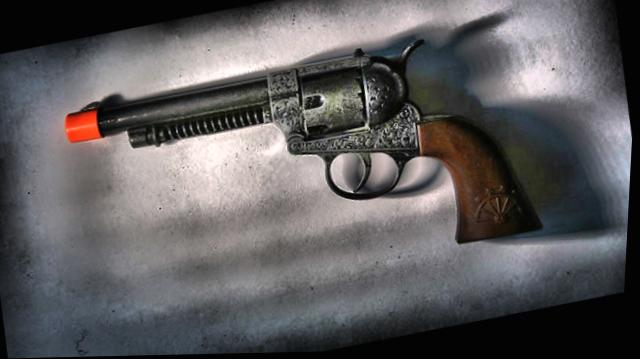pistol: (53, 17, 553, 319)
